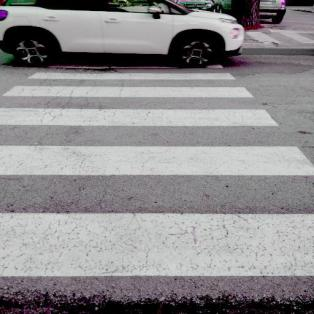Paso de Cebra: (0, 141, 313, 285), (0, 82, 283, 131)
